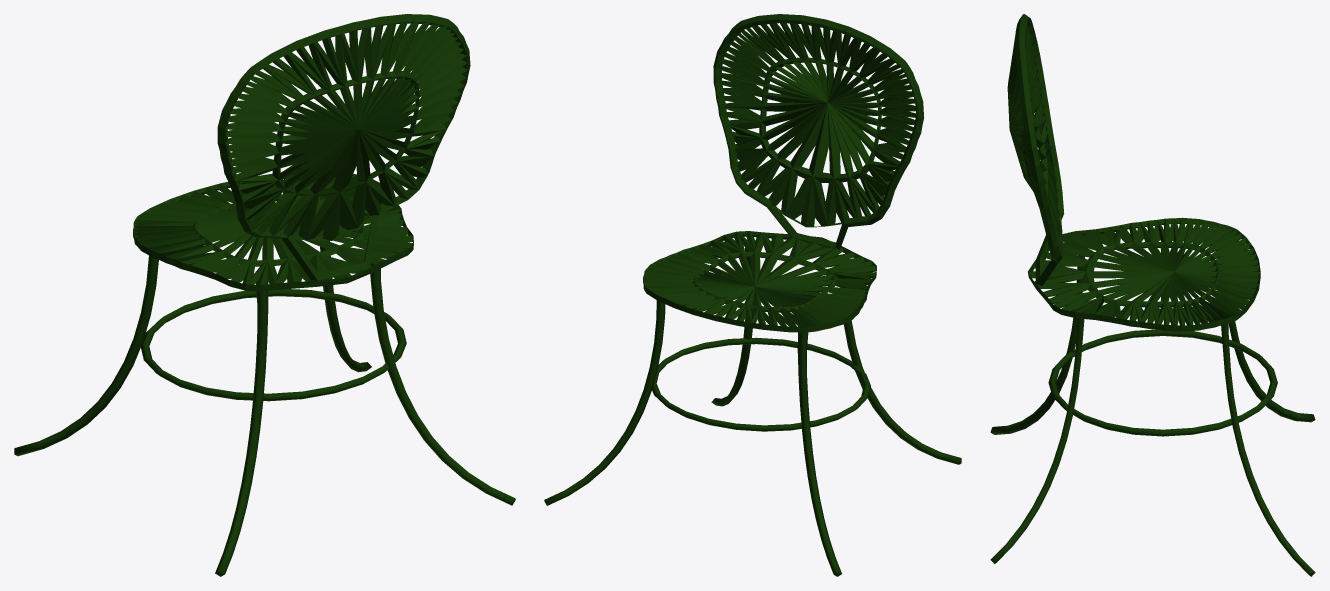
The model's file is vchair.fbx.
3 renders of one model, left to right at view 1: azimuth 30°, elevation 25°; view 2: azimuth 150°, elevation 25°; view 3: azimuth 270°, elevation 25°, orthographic. The views are drawn at different scales.
Parts seen in each view (by area): view 1: BezierCircle.001; view 2: BezierCircle.001; view 3: BezierCircle.001.
Boxes of the visible parts, x1,y1,x2,y2 form: BezierCircle.001: (14,14,515,576); BezierCircle.001: (544,14,961,576); BezierCircle.001: (990,14,1315,576).
Bounding box in the file's own units: 174 × 236 × 150.
